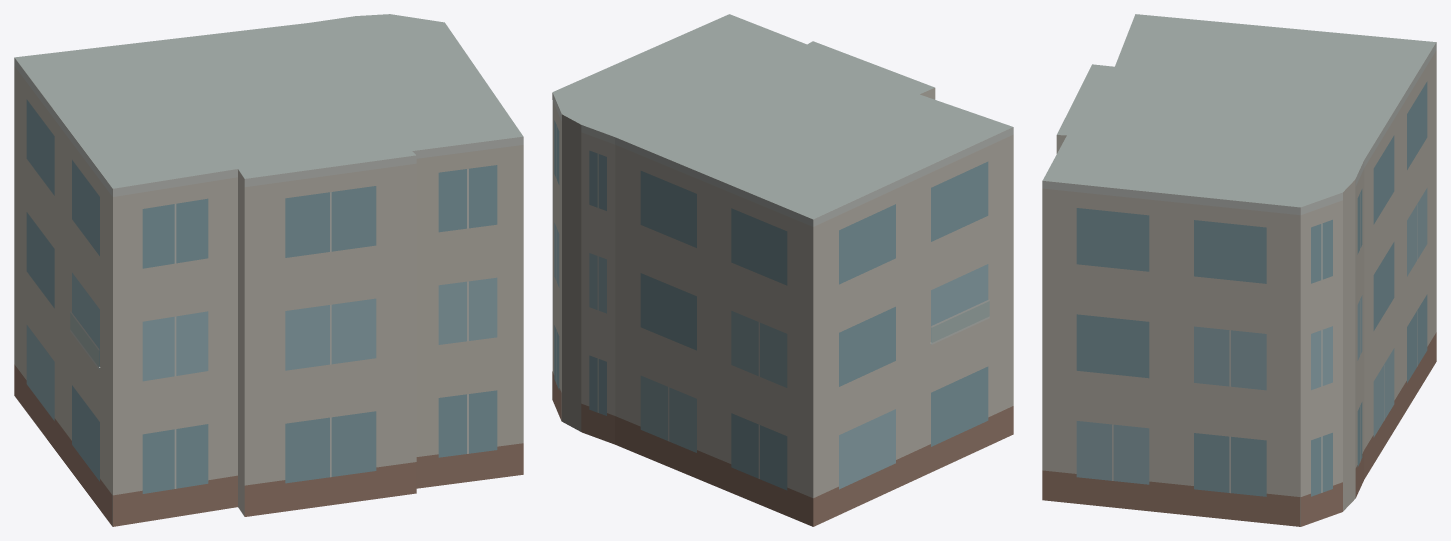
Rendered from survey-upis-32538490.glb.
3 views of the same model, side by side, from view 1: azimuth 30°, elevation 25°; view 2: azimuth 150°, elevation 25°; view 3: azimuth 270°, elevation 25° (orthographic). The views are drawn at different scales.
Parts seen in each view (by area): view 1: survey-upis-32538490.tmp; view 2: survey-upis-32538490.tmp; view 3: survey-upis-32538490.tmp.
Boxes of the visible parts, x1,y1,x2,y2 form: survey-upis-32538490.tmp: [14, 14, 523, 526]; survey-upis-32538490.tmp: [552, 14, 1013, 526]; survey-upis-32538490.tmp: [1042, 14, 1436, 526].
Size of the model in its own units: 13 by 10 by 11.19.
